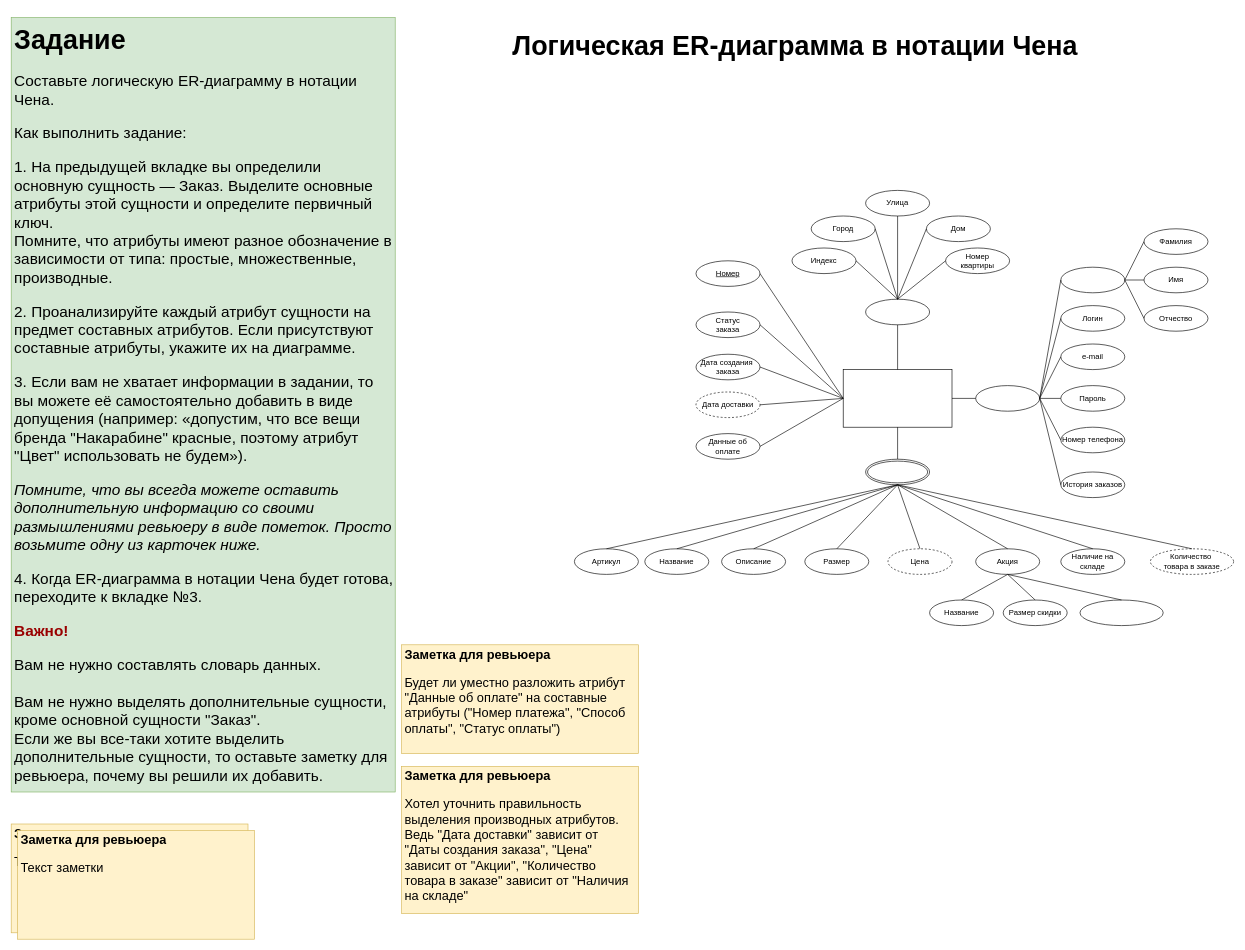
Some shapes in this 1245 by 950 pixel diagram are drawn without their labels. Each missing label, with the centre of its shape:
"Адрес доставки" goes at point 897,312.
"Заказ" goes at point 897,398.
"Индивидуальный номер" goes at point 1121,612.
"Пользователь" goes at point 1007,398.
"Товар" goes at point 897,472.
"ФИО" goes at point 1092,280.
